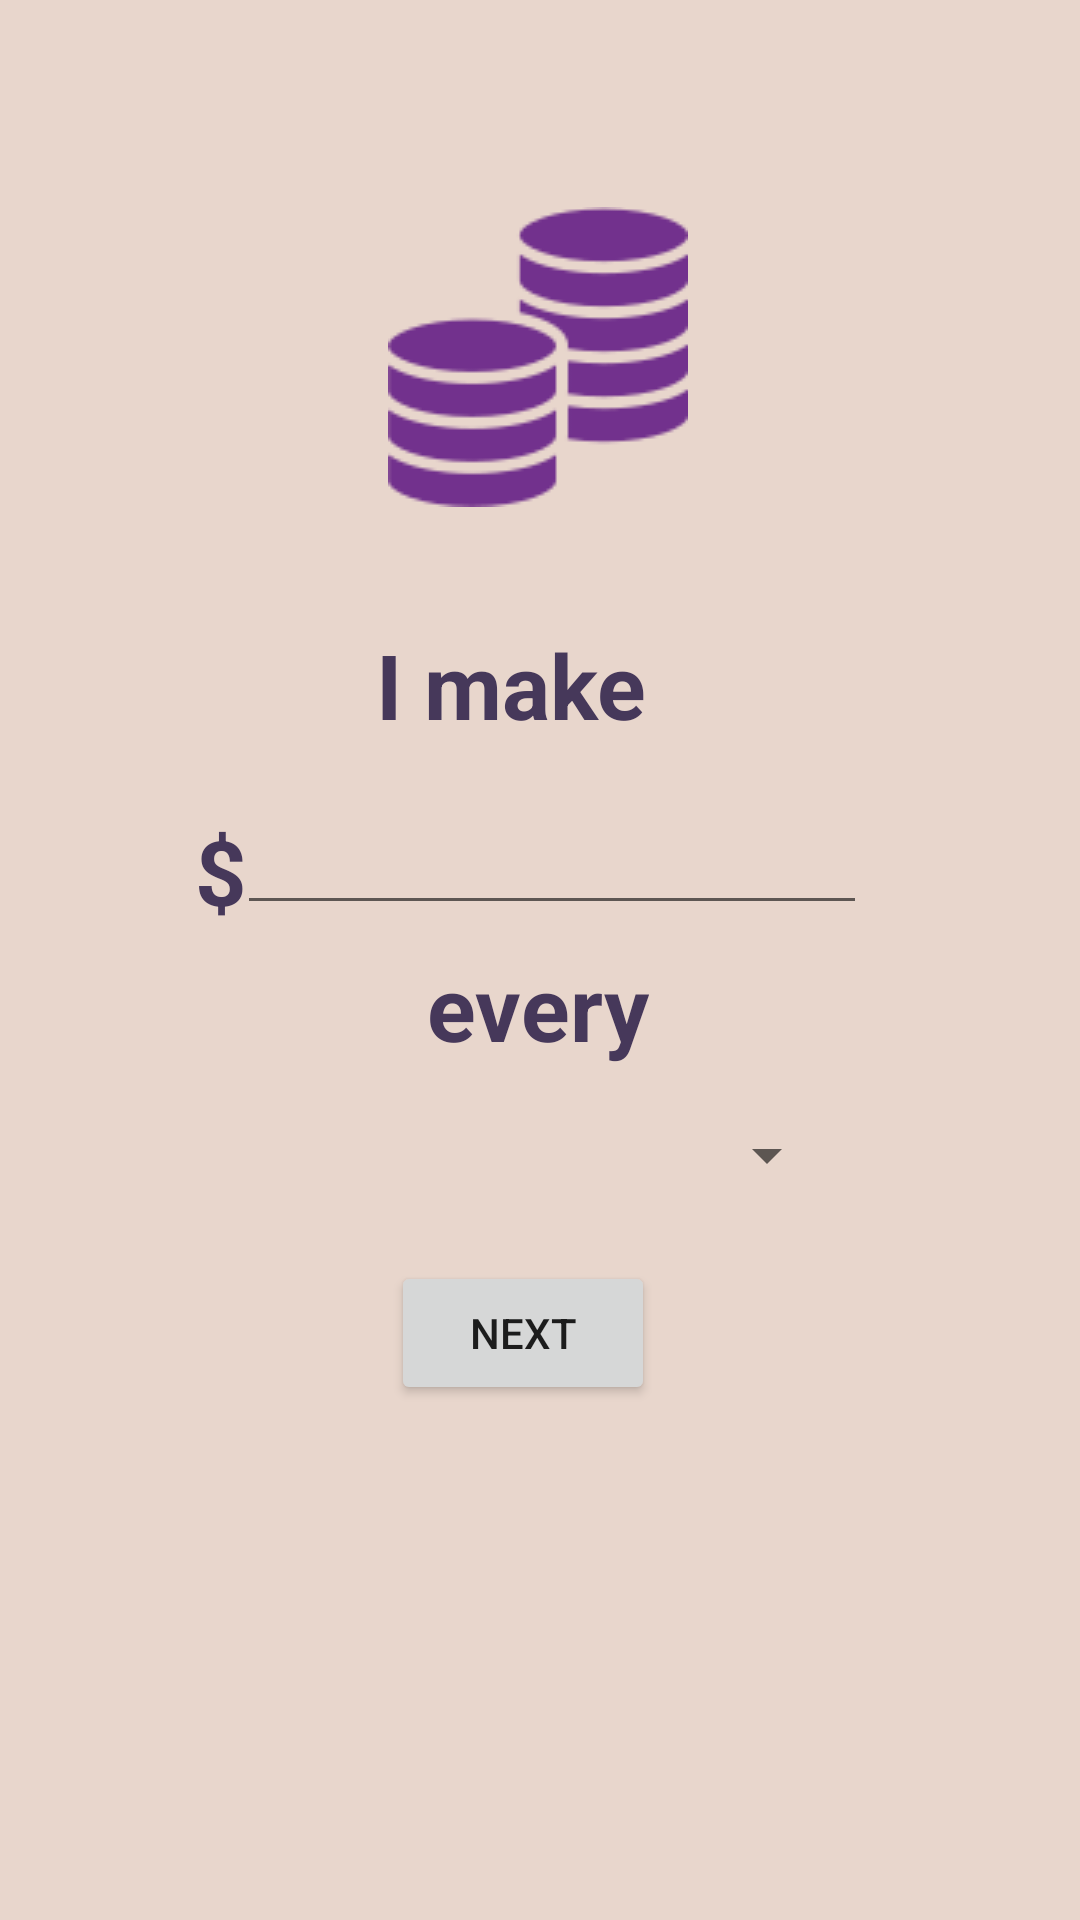

Icons on this 1080 x 1920 Android screen, each with its box as (x1=x1, y1=y1, x2=x2, y2=y2):
salary main: (x1=388, y1=207, x2=688, y2=507)
